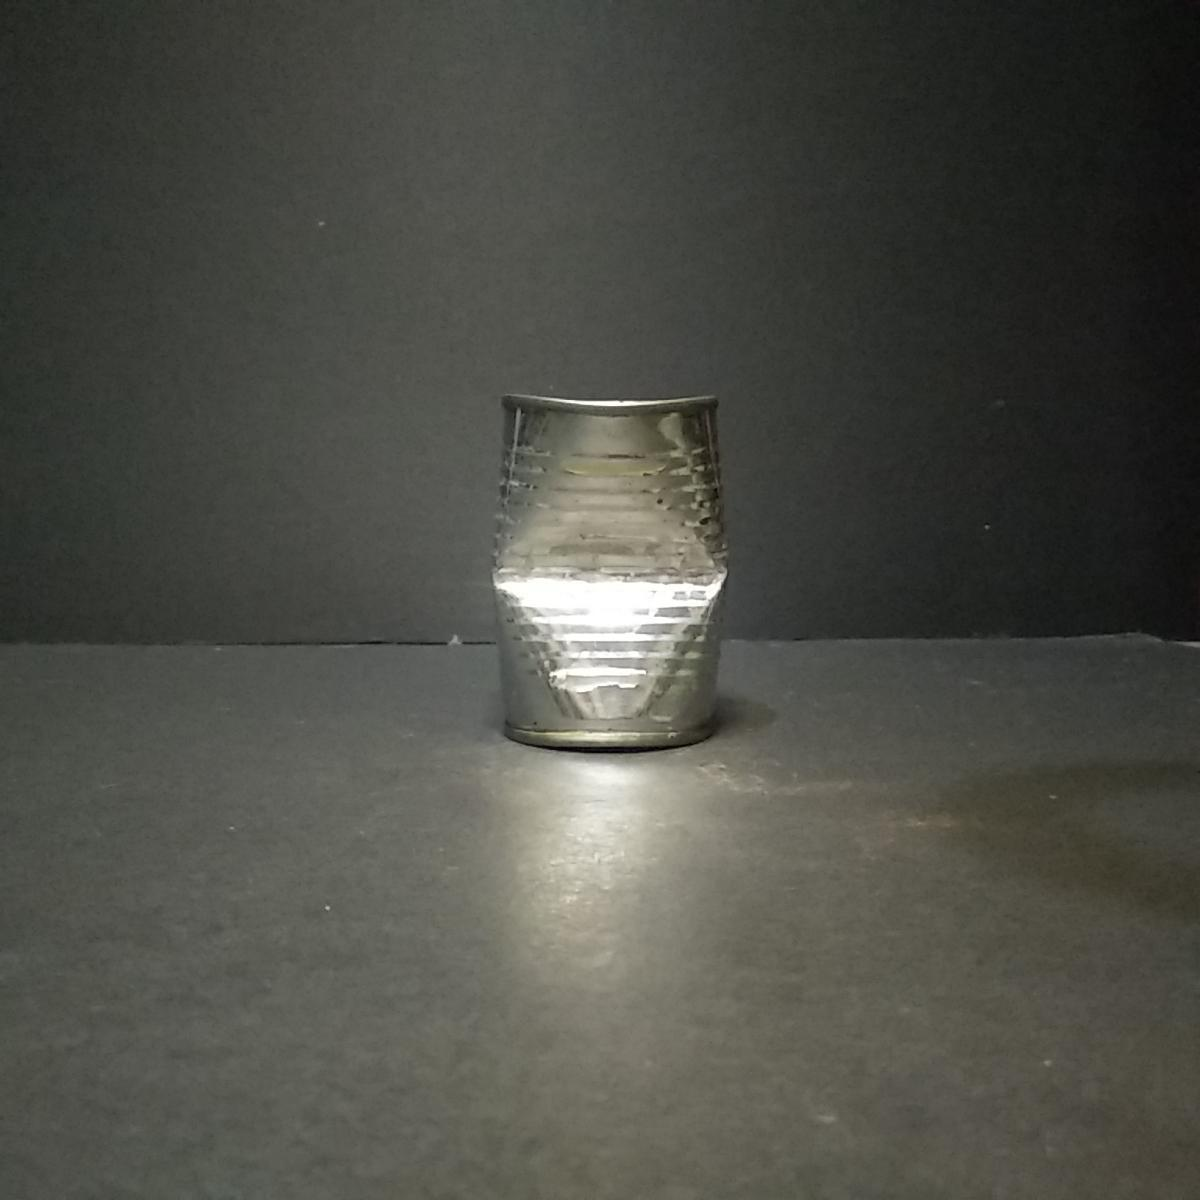Dented: (478, 370, 732, 770)
